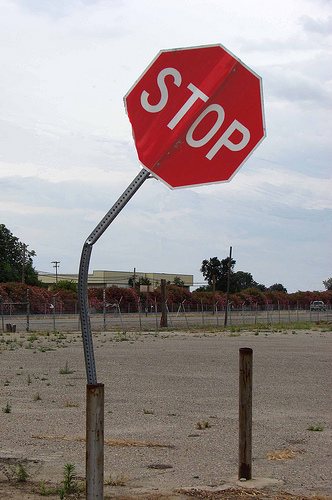stop: (123, 46, 266, 187), (123, 47, 232, 188), (124, 42, 268, 137), (124, 46, 212, 188), (124, 41, 266, 125)
